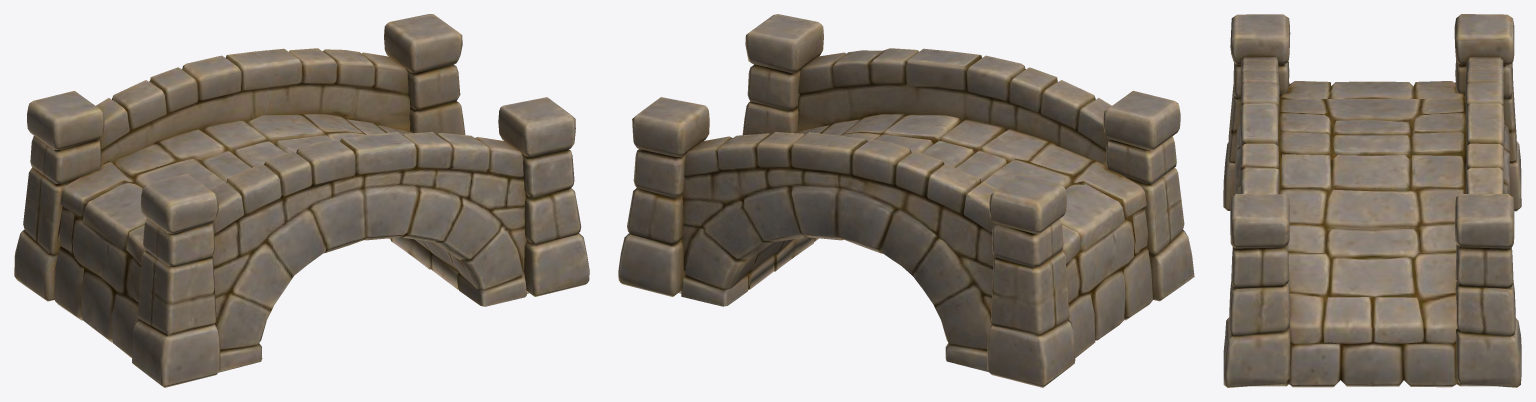
File: bridge.glb
3 views of the same model, side by side, from view 1: azimuth 30°, elevation 25°; view 2: azimuth 150°, elevation 25°; view 3: azimuth 270°, elevation 25° (orthographic).
Visible parts, largest first — view 1: geometry_0; view 2: geometry_0; view 3: geometry_0.
Boxes of the visible parts, x1,y1,x2,y2 form: geometry_0: (14,14,589,387); geometry_0: (618,14,1194,387); geometry_0: (1223,14,1521,387).
Bounding box in the file's own units: 0.9521 × 0.3945 × 0.583.
Materials: 1 (1 with a texture image).
